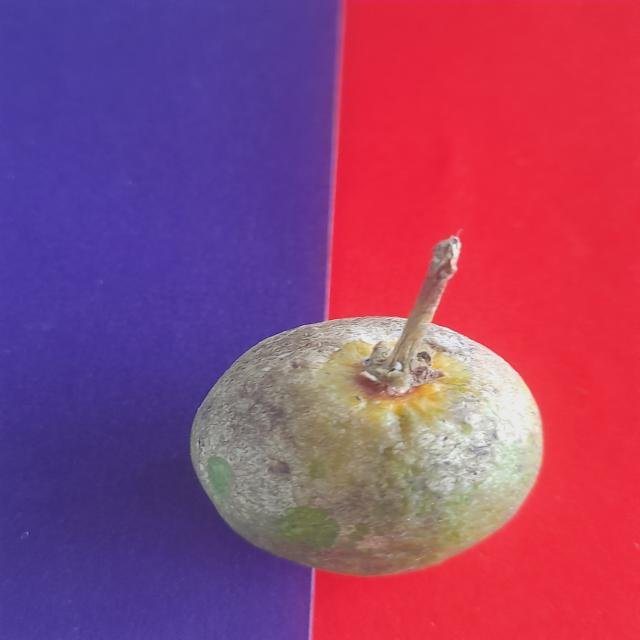thrips: (166, 308, 557, 582)
